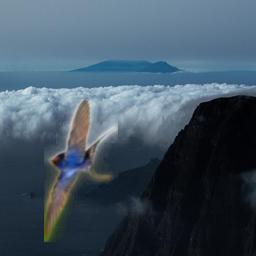Swallow: (44, 99, 118, 242)
